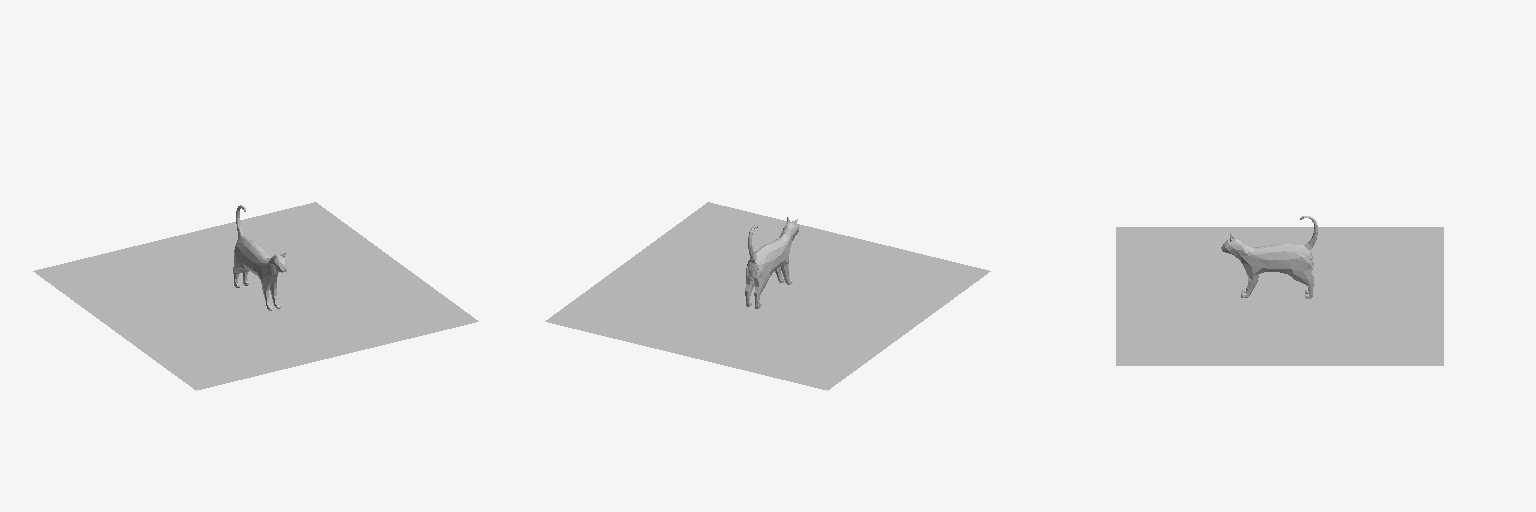
File: cat.obj
3 views of the same model, side by side, from view 1: azimuth 30°, elevation 25°; view 2: azimuth 150°, elevation 25°; view 3: azimuth 270°, elevation 25° (orthographic).
Visible parts, largest first — view 1: Plane, Plano.001; view 2: Plane, Plano.001; view 3: Plane, Plano.001.
Boxes of the visible parts, x1,y1,x2,y2 form: Plane: [33, 202, 478, 390]; Plano.001: [233, 205, 286, 310]; Plane: [545, 202, 990, 390]; Plano.001: [745, 217, 798, 308]; Plane: [1116, 227, 1443, 365]; Plano.001: [1221, 216, 1317, 298].
Bounding box in the file's own units: 20 × 5.45 × 20.